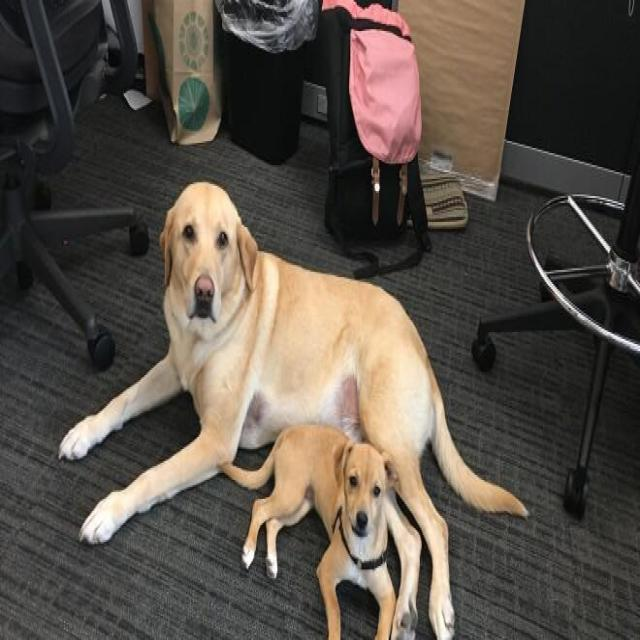Dog: (157, 176, 264, 341), (332, 428, 398, 548)
